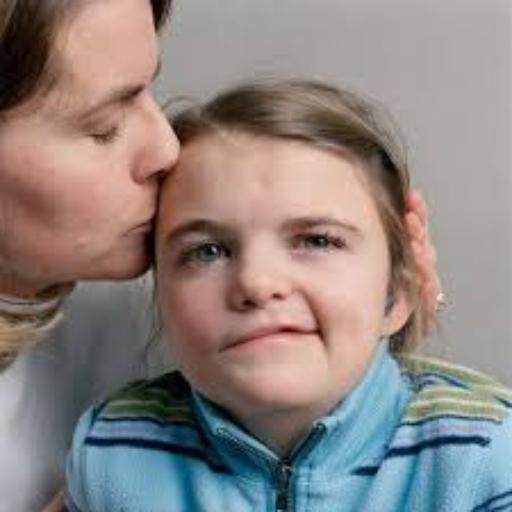left_eye: (286, 232, 353, 257)
left_lip_corner: (303, 325, 326, 344)
right_eye: (180, 240, 235, 266)
right_lip_corner: (214, 342, 236, 358)
